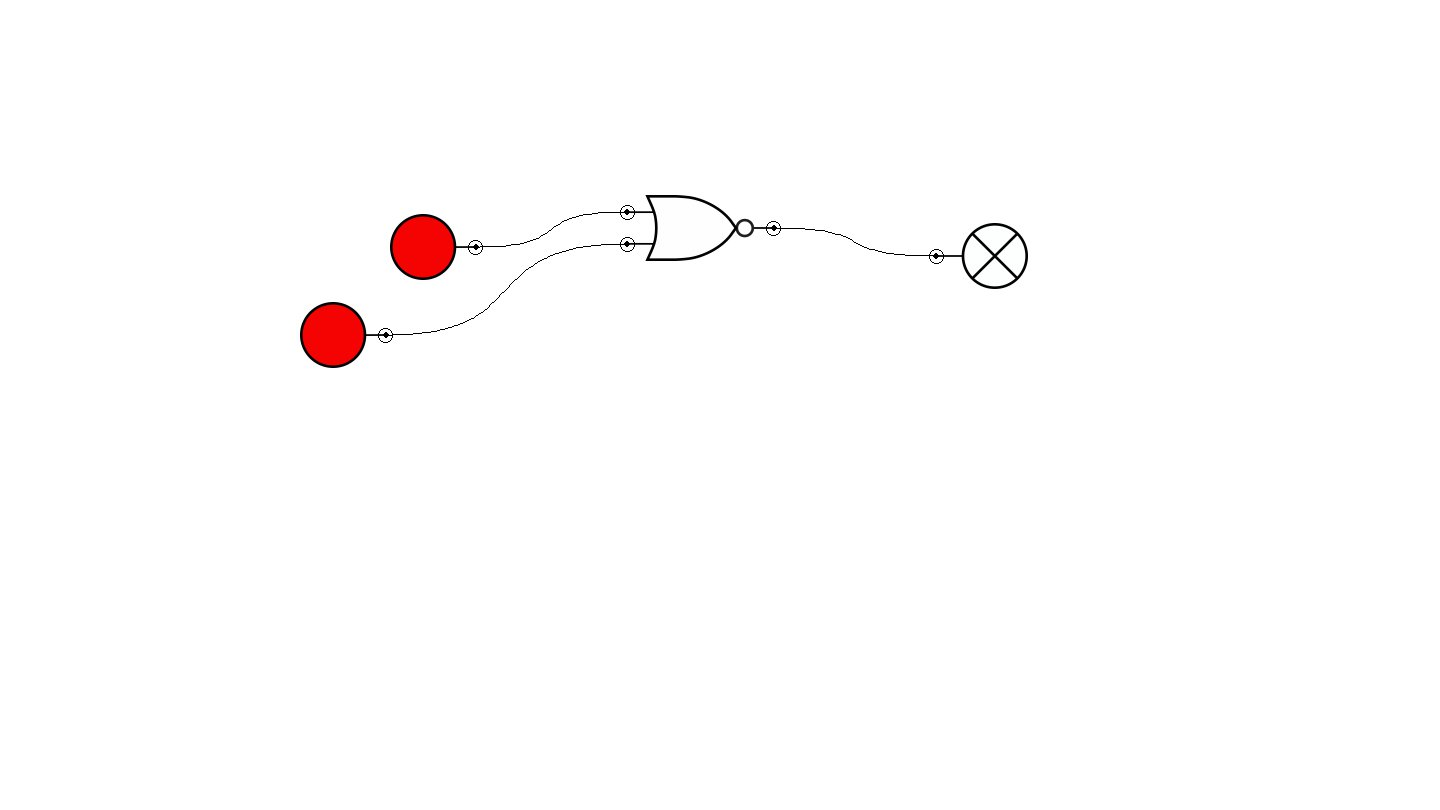bulb: (929, 223, 1028, 289)
nor: (620, 195, 781, 261)
switch_False: (300, 302, 393, 368), (390, 214, 483, 280)
